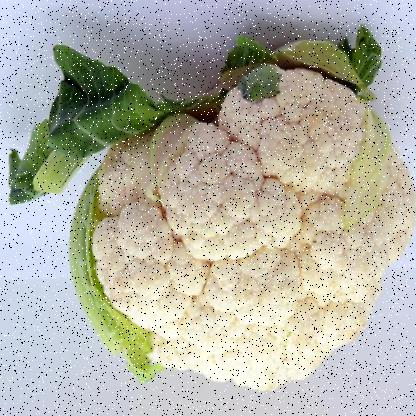cauliflower: (66, 81, 415, 377)
